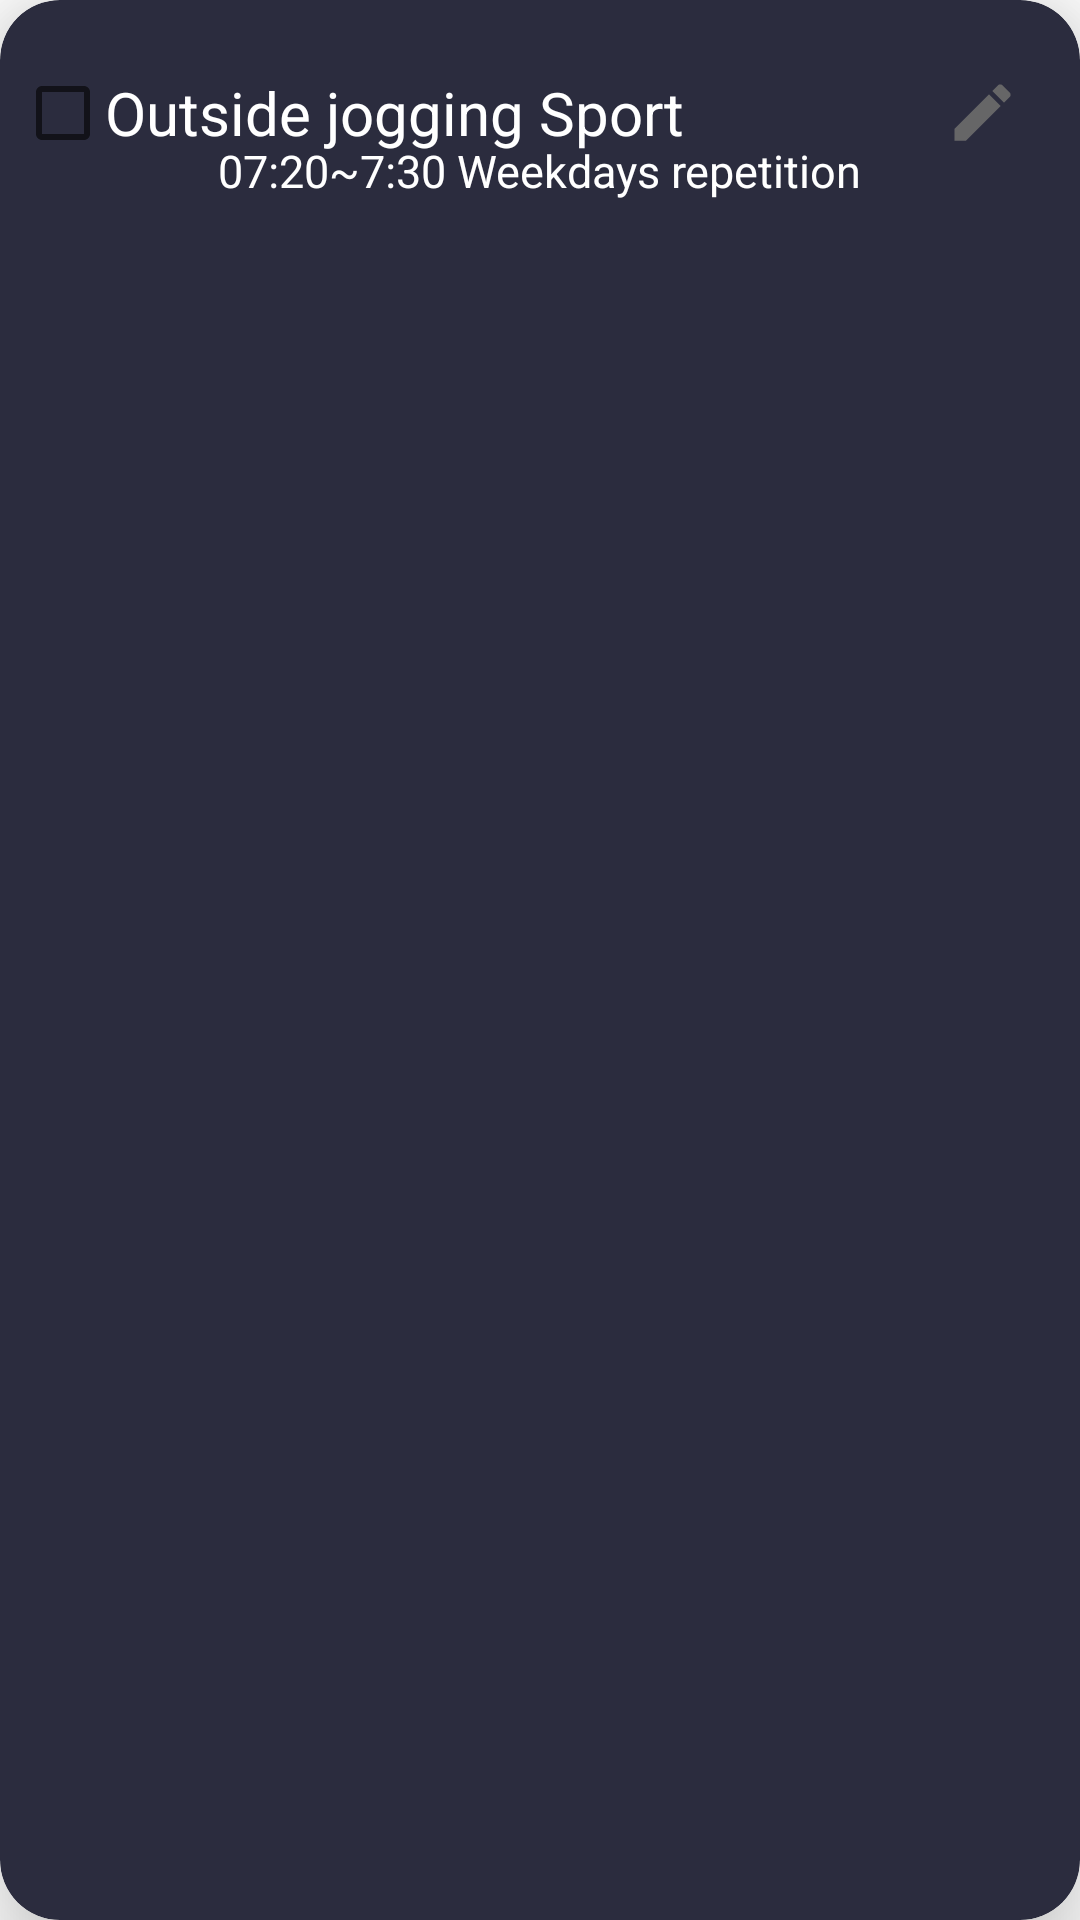

Icon bounding boxes for this 1080px x 1920px phone screenshot, format BBox(x1, y1, x2, y2):
edit: BBox(954, 84, 1011, 141)
